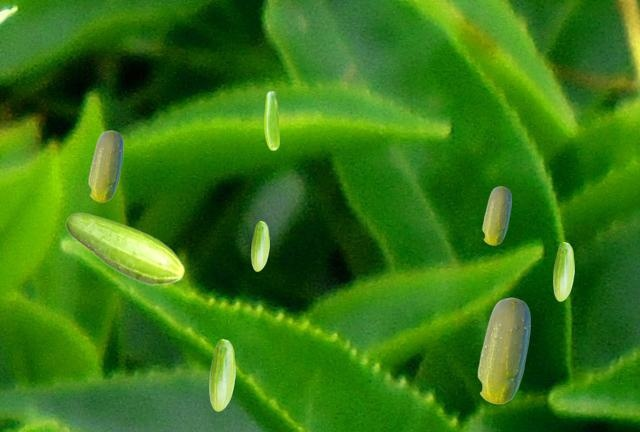cucumber: (65, 212, 184, 285), (477, 297, 529, 403), (88, 130, 122, 201), (209, 339, 234, 410), (482, 186, 510, 244), (553, 242, 573, 300), (251, 221, 268, 270), (264, 91, 278, 149)
